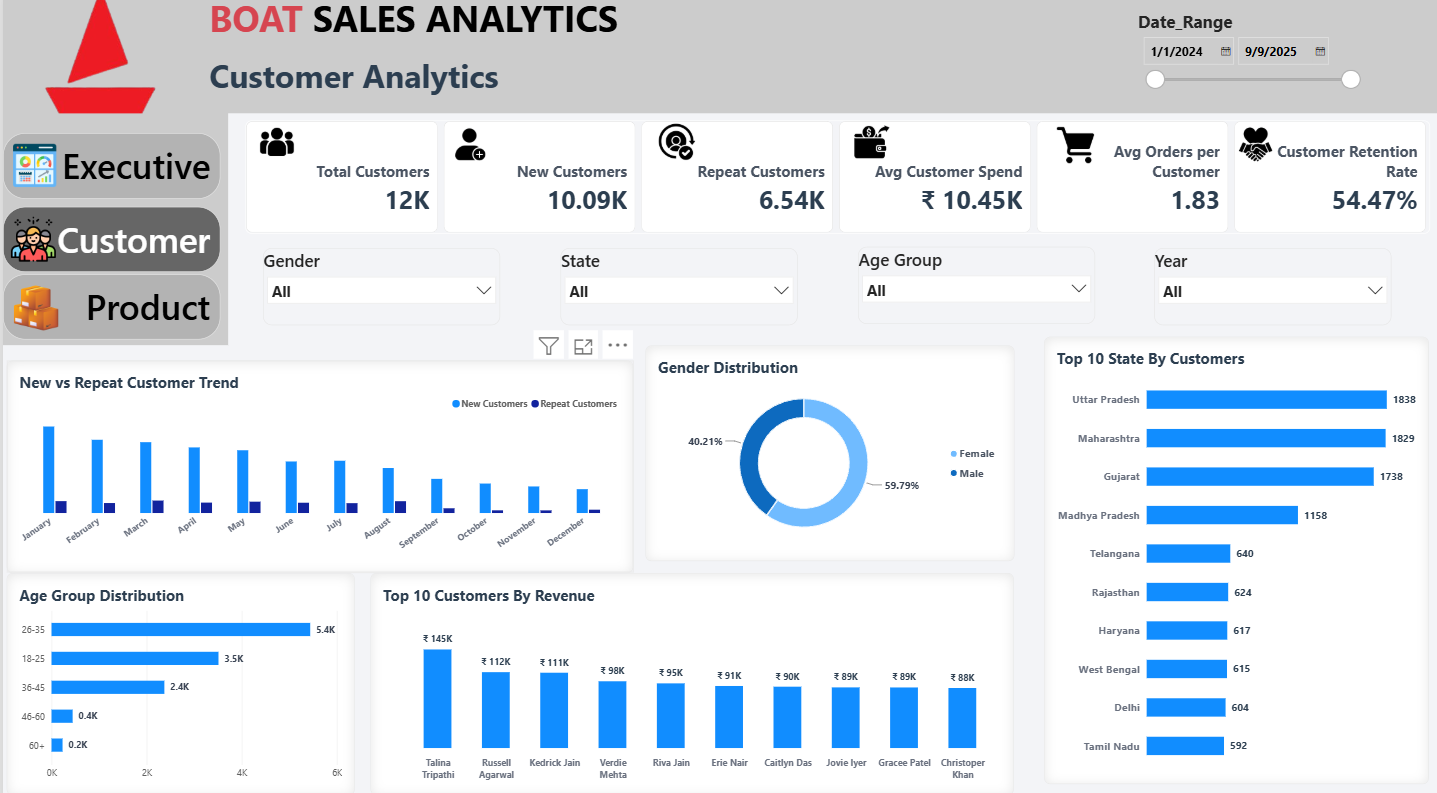

Layout of this report page (visuals, bound fields, positions):
{"tool":"powerbi","page":{"name":"Customer & Product Analytics","canvas":[1920,1080],"ordinal":1},"visuals":[{"type":"cardVisual","fields":{"Data":["Executive KPI's.Total_Customer's","Customer & Product Analysis KPI's.New Customers","Customer & Product Analysis KPI's.Repeat Customers","Customer & Product  KPI's.Avg_Customer_Spend","Customer & Product  KPI's.Avg_Order_per_Customer","Customer & Product  KPI's.Customer_Retention %"]},"box":[323.2,170,1582.3,151.3],"z":0},{"type":"shape","box":[0,0,1920.4,160.7],"z":1000},{"type":"shape","box":[0,0,300.8,470.8],"z":2000},{"type":"textbox","box":[275.1,0,608,94.1],"z":3000},{"type":"image","box":[0,0,260,161.1],"z":4000},{"type":"textbox","box":[275.1,79.6,608,94.1],"z":5000},{"type":"actionButton","box":[0,186.8,290,87.8],"z":6000},{"type":"actionButton","box":[0,375.2,290,87],"z":7000},{"type":"actionButton","box":[0,284.7,290,87],"z":8000},{"type":"clusteredColumnChart","title":"New vs Repeat Customer Trend","fields":{"Category":["Calendar.Month"],"Y":["Customer & Product  KPI's.New Customers","Customer & Product  KPI's.Repeat Customers"]},"box":[5.6,491.3,836.9,283.9],"z":9000},{"type":"clusteredBarChart","title":"Top 10 State By Customers","fields":{"Category":["Boat Customer.state"],"Y":["Executive KPI's.Total_Customer's"]},"box":[1391.7,459.5,513.7,597.8],"z":10000},{"type":"clusteredColumnChart","title":"Top 10 Customers By Revenue","fields":{"Category":["Boat Customer.Customer_Name"],"Y":["Executive KPI's.Revenue"]},"box":[491.3,775.3,859.3,297],"z":11000},{"type":"clusteredBarChart","title":"Age Group Distribution","fields":{"Category":["Boat Customer.Age_Group"],"Y":["Executive KPI's.Total_Customer's"]},"box":[5.6,775.3,465.2,297],"z":12000},{"type":"donutChart","title":"Gender Distribution","fields":{"Y":["Executive KPI's.Total_Customer's"],"Category":["Boat Customer.Gender"]},"box":[857.4,470.8,493.2,287.7],"z":13000},{"type":"image","box":[323.2,173.7,84.1,50.4],"z":14000},{"type":"image","box":[581,177.5,84.1,50.4],"z":15000},{"type":"image","box":[857.4,173.7,84.1,50.4],"z":16000},{"type":"image","box":[1119,173.7,84.1,50.4],"z":17000},{"type":"image","box":[1630.8,177.5,84.1,50.4],"z":18000},{"type":"image","box":[1391.7,177.5,84,50.4],"z":19000},{"type":"image","box":[7.5,199.9,71,59.8],"z":20000},{"type":"image","box":[5.6,298.9,71,59.8],"z":21000},{"type":"image","box":[5.6,390.4,78.5,59.8],"z":22000},{"type":"slicer","title":"Gender","fields":{"Values":["Boat Customer.Gender"]},"box":[347.5,340.2,316.7,103.2],"z":23000},{"type":"slicer","title":"State","fields":{"Values":["Boat Customer.state"]},"box":[744.4,340.2,316.7,103.2],"z":24000},{"type":"slicer","title":"Age Group","fields":{"Values":["Boat Customer.Age_Group"]},"box":[1141.3,338.4,316.7,103.2],"z":25000},{"type":"slicer","title":"Year","fields":{"Values":["Calendar.Year"]},"box":[1538.2,340.2,316.7,103.2],"z":26000},{"type":"slicer","title":"Date_Range","fields":{"Values":["Calendar.Date"]},"box":[1516.9,22.4,300.8,115.8],"z":27000}]}

Visuals, with their boxes in screenshot pixels (x1, y1, x2, y2), scaled from the page's 1920x1080 canvas onto the 1437x793 screenshot:
cardVisual - Executive KPI's.Total_Customer's x Customer & Product Analysis KPI's.New Customers: bbox=(242, 125, 1426, 236)
shape: bbox=(0, 0, 1436, 118)
shape: bbox=(0, 0, 225, 346)
textbox: bbox=(206, 0, 661, 69)
image: bbox=(0, 0, 195, 118)
textbox: bbox=(206, 58, 661, 128)
actionButton: bbox=(0, 137, 217, 202)
actionButton: bbox=(0, 275, 217, 339)
actionButton: bbox=(0, 209, 217, 273)
"New vs Repeat Customer Trend" clusteredColumnChart: bbox=(4, 361, 631, 569)
"Top 10 State By Customers" clusteredBarChart: bbox=(1042, 337, 1426, 776)
"Top 10 Customers By Revenue" clusteredColumnChart: bbox=(368, 569, 1011, 787)
"Age Group Distribution" clusteredBarChart: bbox=(4, 569, 352, 787)
"Gender Distribution" donutChart: bbox=(642, 346, 1011, 557)
image: bbox=(242, 128, 305, 165)
image: bbox=(435, 130, 498, 167)
image: bbox=(642, 128, 705, 165)
image: bbox=(838, 128, 900, 165)
image: bbox=(1221, 130, 1283, 167)
image: bbox=(1042, 130, 1104, 167)
image: bbox=(6, 147, 59, 191)
image: bbox=(4, 219, 57, 263)
image: bbox=(4, 287, 63, 331)
"Gender" slicer: bbox=(260, 250, 497, 326)
"State" slicer: bbox=(557, 250, 794, 326)
"Age Group" slicer: bbox=(854, 248, 1091, 324)
"Year" slicer: bbox=(1151, 250, 1388, 326)
"Date_Range" slicer: bbox=(1135, 16, 1360, 101)
